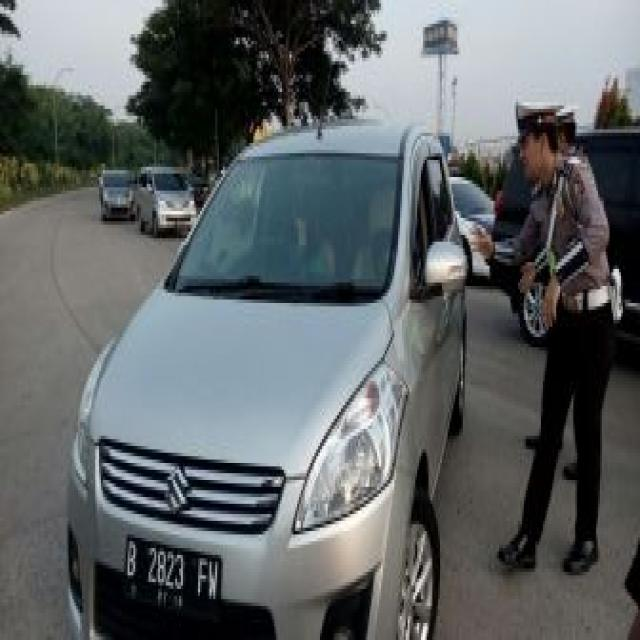license-plat: (116, 520, 234, 628)
